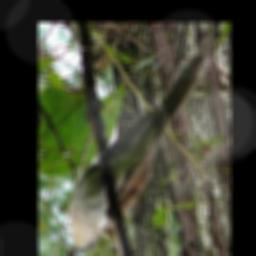Cuckoo: (66, 52, 209, 256)
